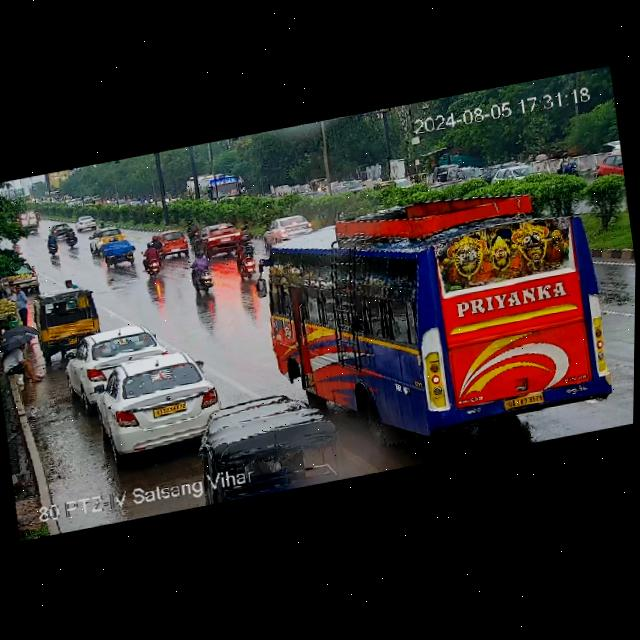bus: (252, 165, 628, 471), (186, 163, 249, 203)
car: (95, 338, 221, 464), (66, 321, 161, 403), (30, 284, 103, 362), (255, 208, 318, 251), (196, 218, 241, 261), (158, 225, 189, 259), (75, 213, 98, 233), (51, 220, 73, 238)
motorcycle: (189, 250, 217, 294), (233, 234, 258, 283), (137, 240, 163, 281), (44, 230, 62, 258), (64, 227, 79, 250), (151, 234, 164, 258), (99, 220, 105, 229)
person: (0, 344, 41, 393), (14, 282, 32, 328), (60, 278, 80, 291)
truck: (8, 204, 42, 238)
